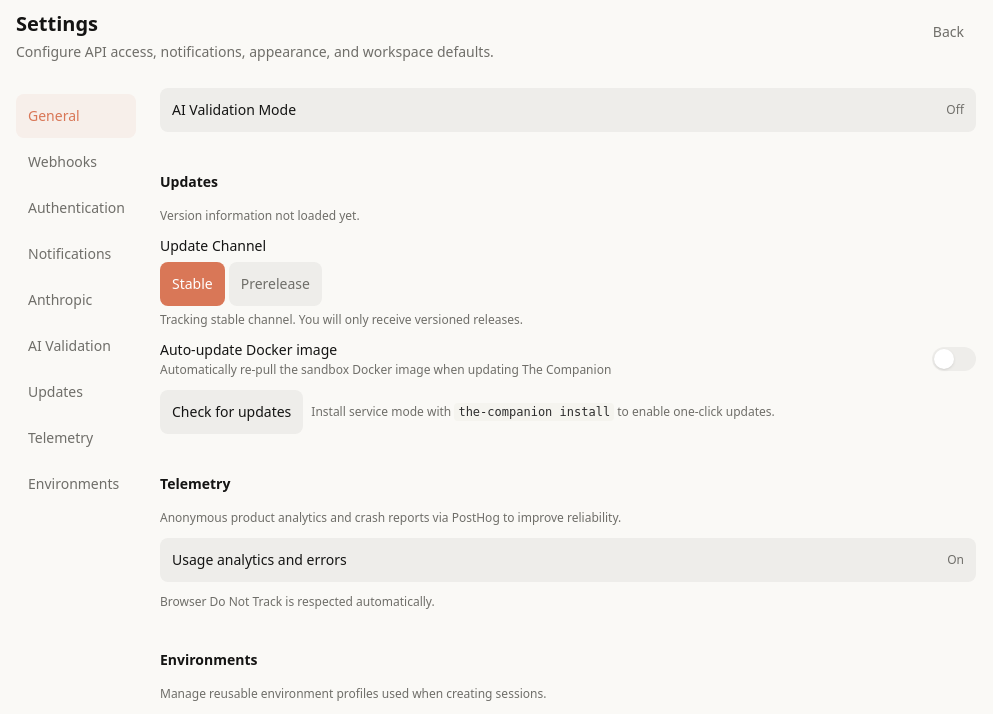
Test: SettingsPage › checks for updates from settings and stores update info
This screenshot has width=993, height=714.
(page scrolled)
Click the button "Check for updates" at (232, 412), box [160,390,303,434]
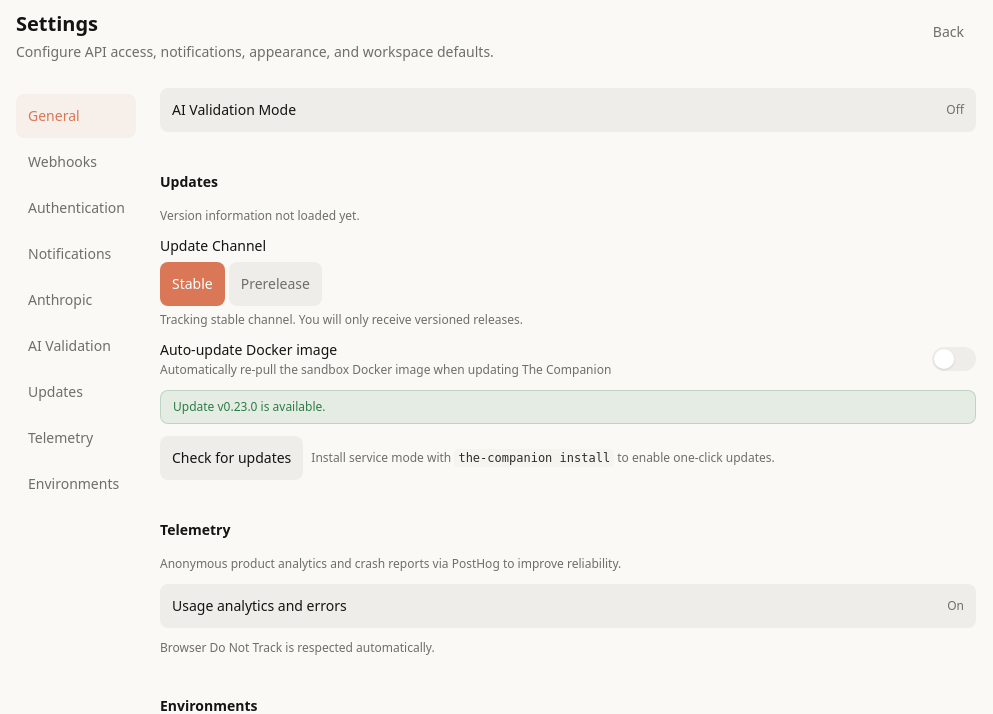
Expected: the text "Update v0.23.0 is available." is shown, [160,390,976,424]
